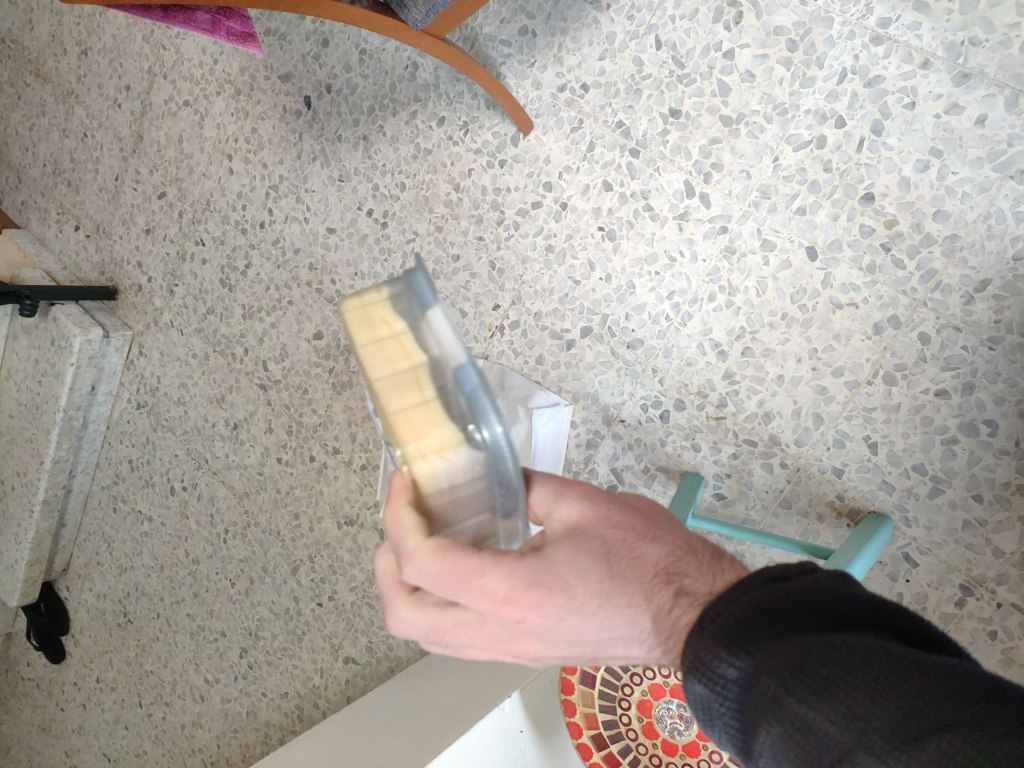Cheese: (236, 239, 604, 696)
